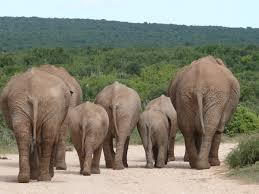elephant: (0, 56, 239, 182)
